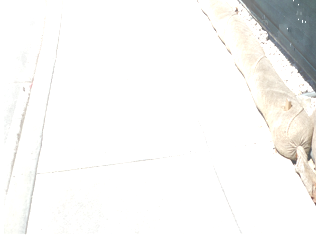Edge: (200, 0, 319, 201)
